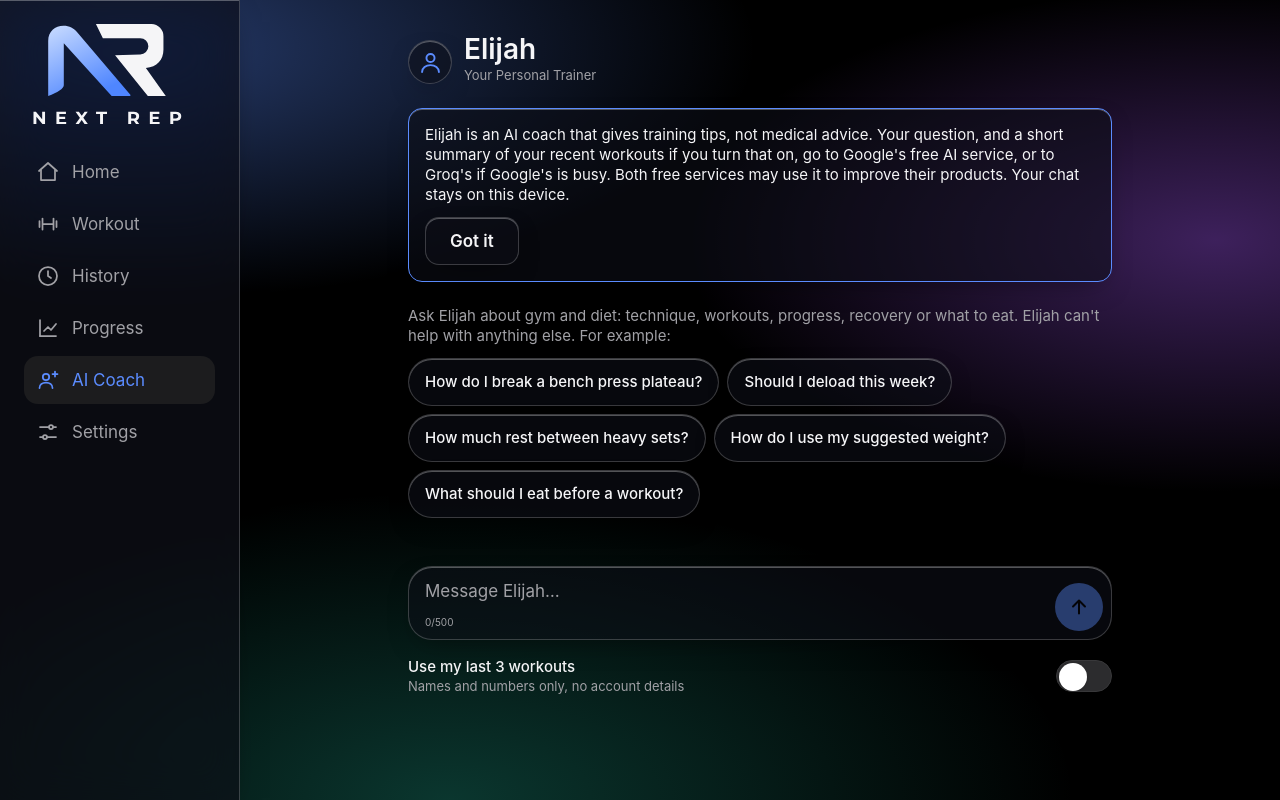
Test: the Coach screen › sends a question, shows the reply, and keeps both on the device
Step 1. Type "Should I add weight?" into the text box with placeholder "Message Elijah…" → (760, 603), box x1=409 y1=567 x2=1111 y2=639
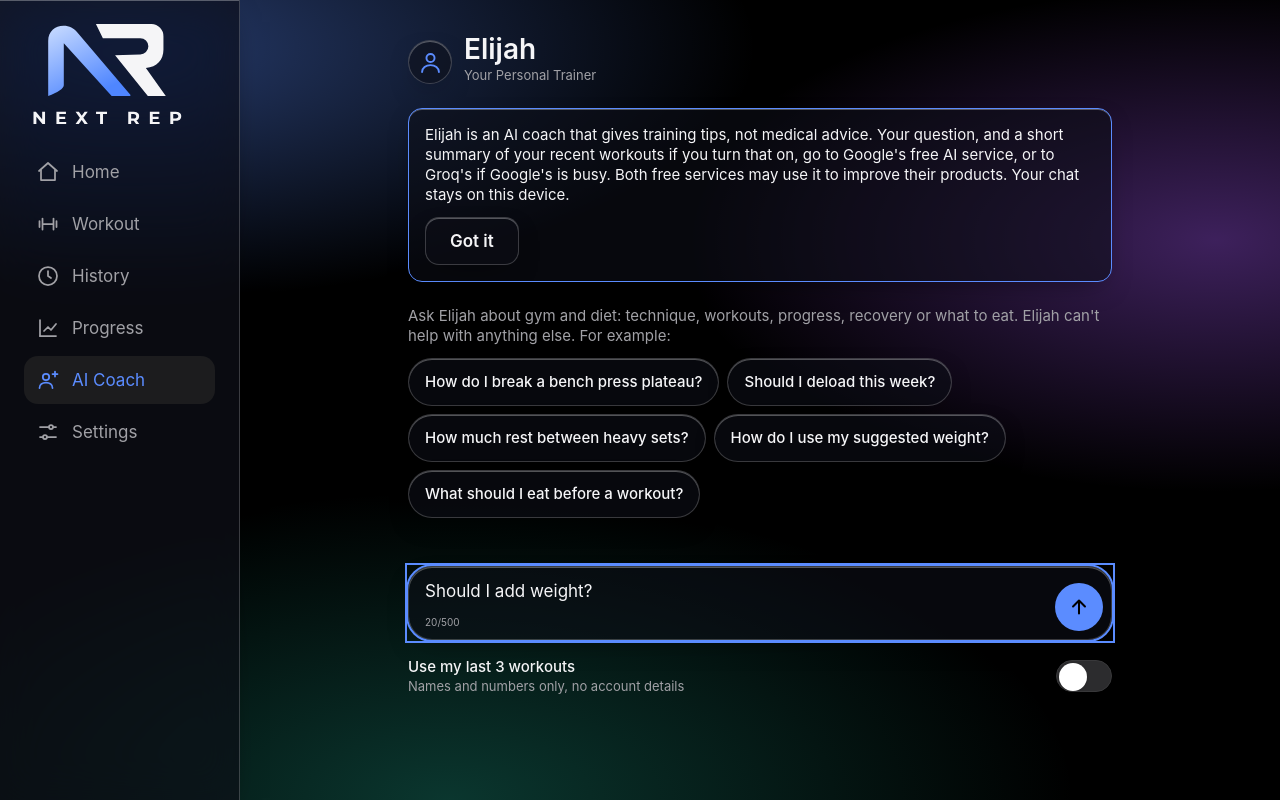
Step 2. Click the button named "Send" → (1079, 607), box x1=1055 y1=583 x2=1103 y2=631
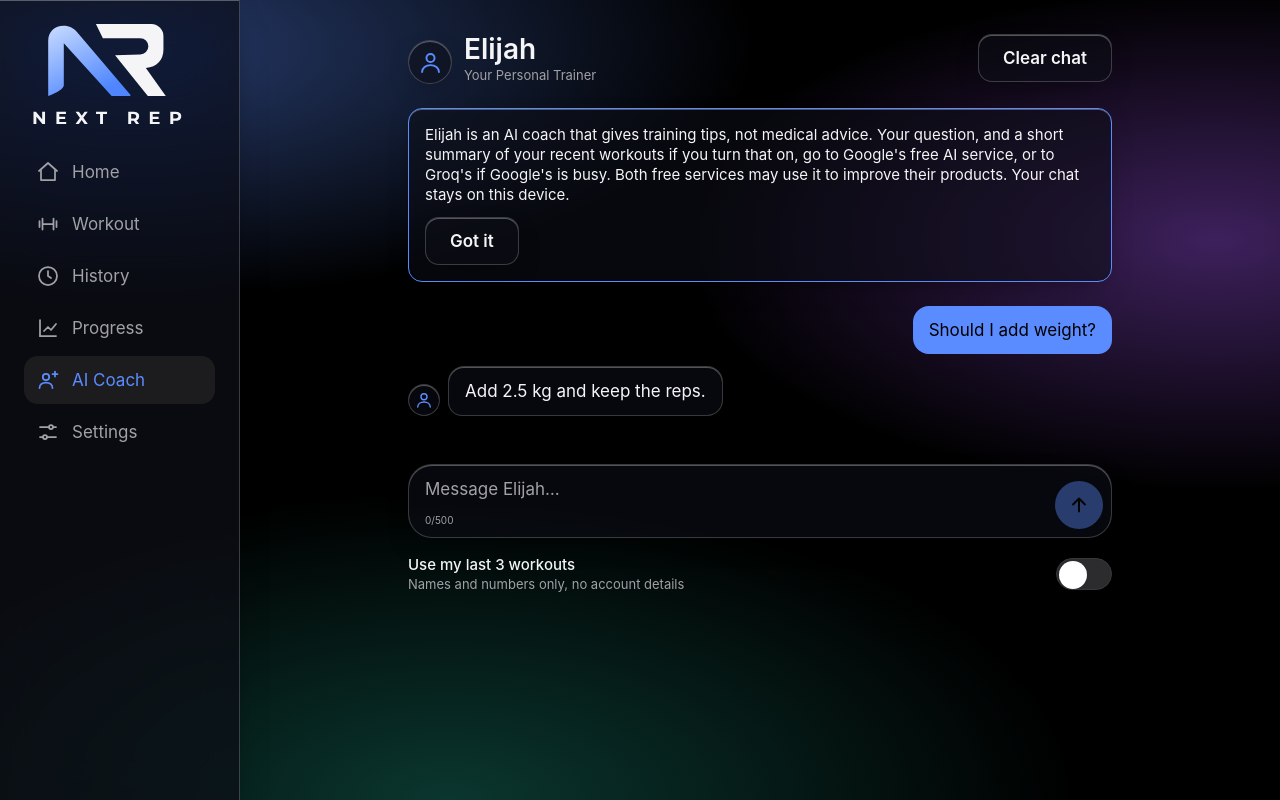
Expected: the text "Add 2.5 kg and keep the reps." is shown, x1=465 y1=379 x2=706 y2=403
Expected: the text "Should I add weight?" is shown, x1=929 y1=318 x2=1096 y2=342
